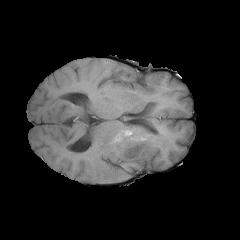glioma: (89, 126, 171, 182)
